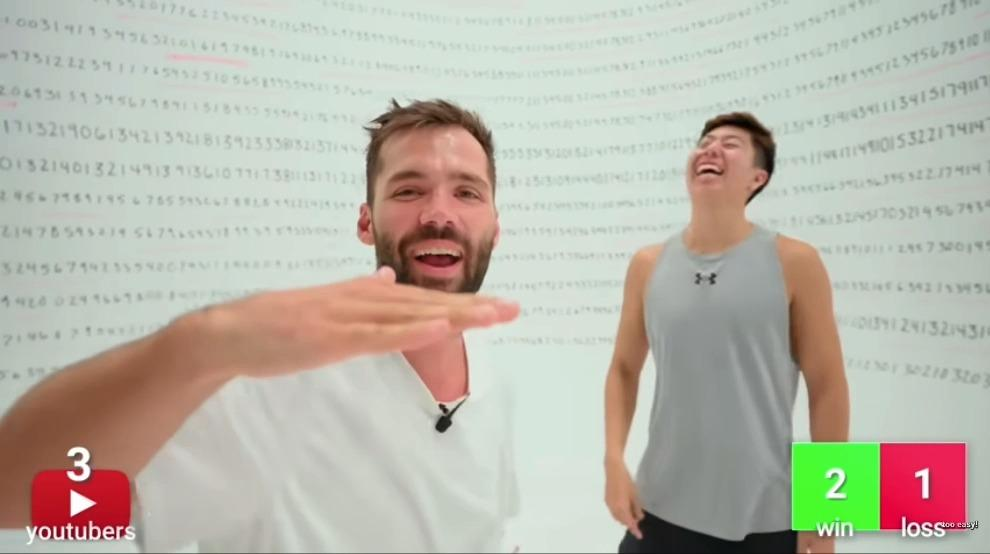Paper: (177, 265, 519, 370)
